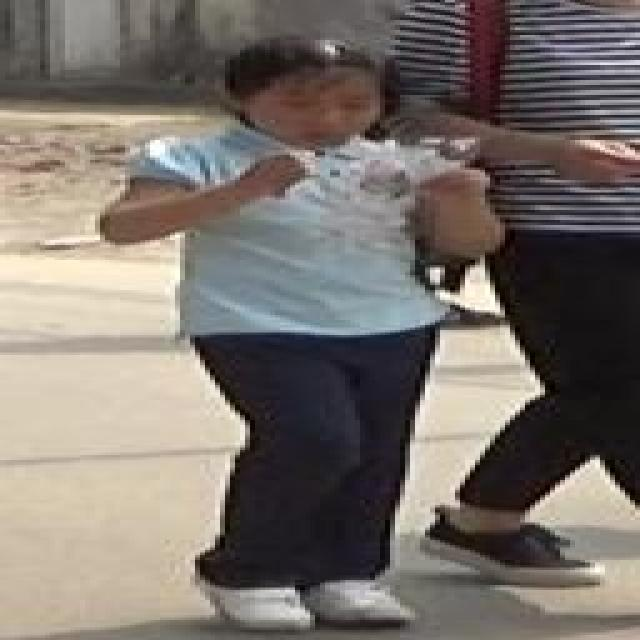adult: (384, 6, 640, 580)
child: (84, 36, 499, 620)
